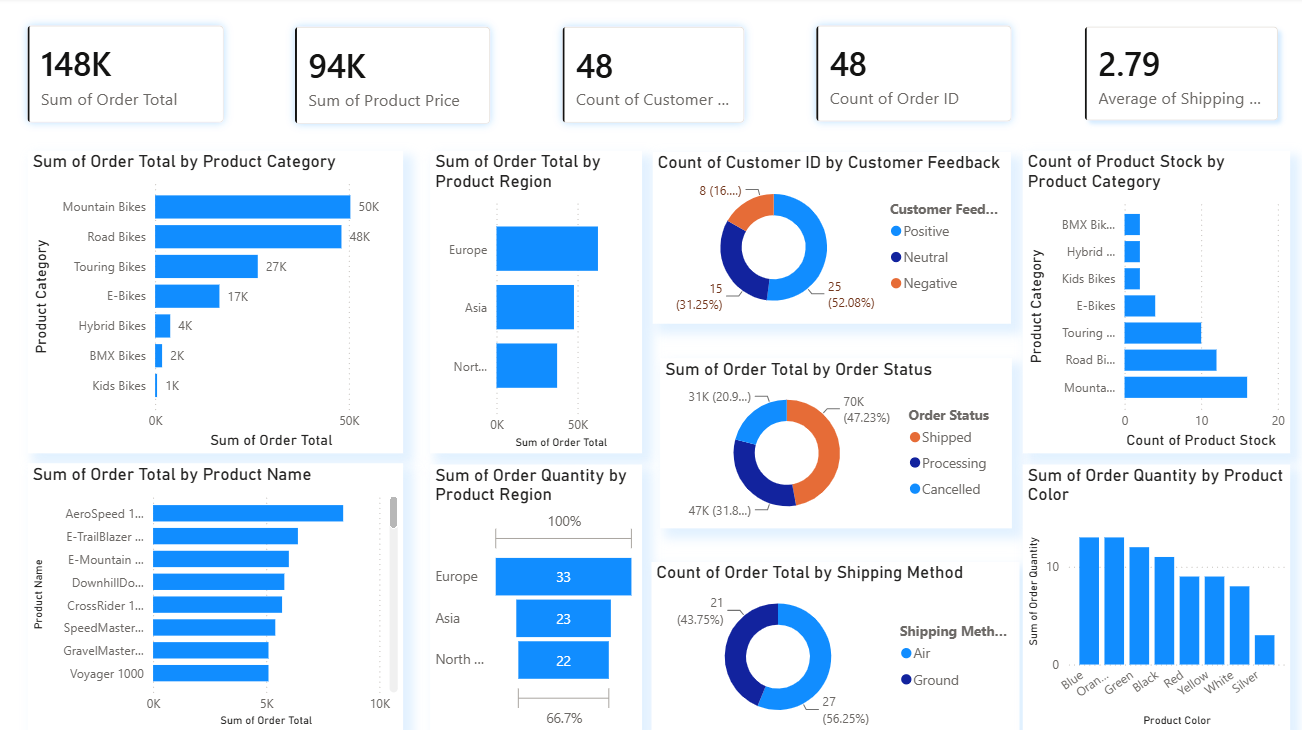

Layout of this report page (visuals, bound fields, positions):
{"tool":"powerbi","page":{"name":"Duplicate of Page 1","canvas":[1280,720],"ordinal":1},"visuals":[{"type":"cardVisual","title":"Total Revenue","fields":{"Data":["Sum(Sales.Order Total)"]},"box":[0,0,248.5,151.8],"z":0},{"type":"cardVisual","fields":{"Data":["Sum(Sales.Product Price)"]},"box":[262.2,1.2,247.2,151.8],"z":1000},{"type":"cardVisual","fields":{"Data":["CountNonNull(Sales.Customer ID)"]},"box":[523.2,1.2,235,150.5],"z":2000},{"type":"cardVisual","fields":{"Data":["CountNonNull(Sales.Order ID)"]},"box":[772,0,247.2,150.5],"z":3000},{"type":"clusteredBarChart","fields":{"Y":["Sum(Sales.Order Total)"],"Category":["Sales.Product Category"]},"box":[28.2,150.5,367.2,296.2],"z":4000},{"type":"clusteredBarChart","fields":{"Y":["Sum(Sales.Order Total)"],"Category":["Sales.Product Name"]},"box":[28.2,456.5,367.2,263.1],"z":5000},{"type":"clusteredBarChart","fields":{"Y":["Sum(Sales.Order Total)"],"Category":["Sales.Product Region"]},"box":[422.3,150.5,206.8,296.2],"z":6000},{"type":"funnel","fields":{"Category":["Sales.Product Region"],"Y":["Sum(Sales.Order Quantity)"]},"box":[422,457,207,263],"z":7000},{"type":"donutChart","fields":{"Category":["Sales.Customer Feedback"],"Y":["CountNonNull(Sales.Customer ID)"]},"box":[640.1,151.8,350,167.7],"z":8000},{"type":"donutChart","fields":{"Category":["Sales.Order Status"],"Y":["Sum(Sales.Order Total)"]},"box":[647.5,353.1,343.9,166.5],"z":9000},{"type":"donutChart","fields":{"Category":["Sales.Shipping Method"],"Y":["CountNonNull(Sales.Order Total)"]},"box":[638.9,553.2,359.8,166.5],"z":10000},{"type":"cardVisual","fields":{"Data":["Avg(Sales.Shipping Time (in Days))"]},"box":[1032.8,0,247.2,150.5],"z":11001},{"type":"clusteredBarChart","fields":{"Y":["CountNonNull(Sales.Product Stock)"],"Category":["Sales.Product Category"]},"box":[1001.5,150.4,261.7,295.9],"z":11002},{"type":"clusteredColumnChart","fields":{"Category":["Sales.Product Color"],"Y":["Sum(Sales.Order Quantity)"]},"box":[1001.5,457.3,261.7,261.7],"z":11003}]}

Visuals, with their boxes in screenshot pixels (x1, y1, x2, y2), scaled from the page's 1280x720 canvas onto the 1302x730 screenshot:
"Total Revenue" cardVisual: 0,0,253,154
cardVisual - Sum(Sales.Product Price): 267,1,518,155
cardVisual - CountNonNull(Sales.Customer ID): 532,1,771,154
cardVisual - CountNonNull(Sales.Order ID): 785,0,1037,153
clusteredBarChart - Sum(Sales.Order Total) x Sales.Product Category: 29,153,402,453
clusteredBarChart - Sum(Sales.Order Total) x Sales.Product Name: 29,463,402,729
clusteredBarChart - Sum(Sales.Order Total) x Sales.Product Region: 430,153,640,453
funnel - Sales.Product Region x Sum(Sales.Order Quantity): 429,463,640,729
donutChart - Sales.Customer Feedback x CountNonNull(Sales.Customer ID): 651,154,1007,324
donutChart - Sales.Order Status x Sum(Sales.Order Total): 659,358,1008,527
donutChart - Sales.Shipping Method x CountNonNull(Sales.Order Total): 650,561,1016,729
cardVisual - Avg(Sales.Shipping Time (in Days)): 1051,0,1301,153
clusteredBarChart - CountNonNull(Sales.Product Stock) x Sales.Product Category: 1019,152,1285,452
clusteredColumnChart - Sales.Product Color x Sum(Sales.Order Quantity): 1019,464,1285,729
